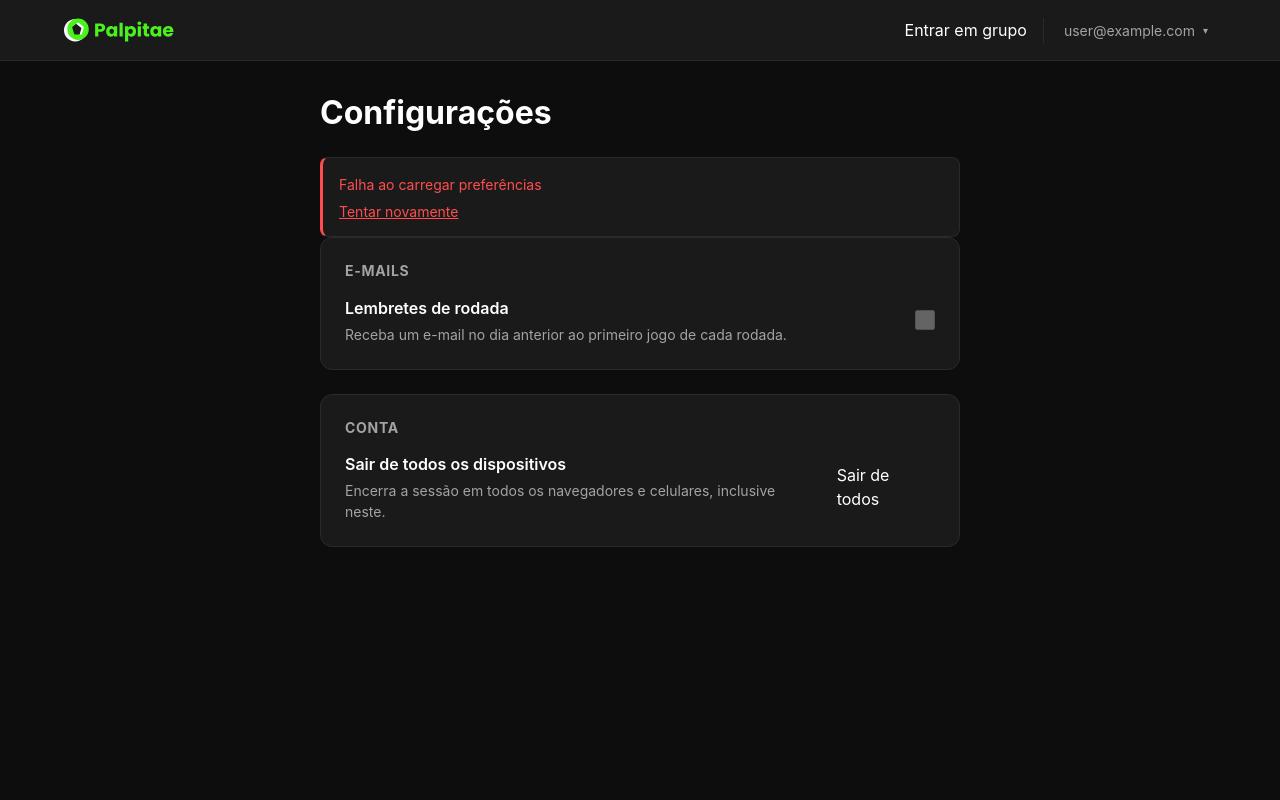
Test: SettingsPage › shows a retry button after initial load failure and recovers on retry
Expected: the checkbox is disabled, [915, 310, 935, 330]
Click the button "Tentar novamente": coordinates (399, 212) [339, 203, 458, 220]
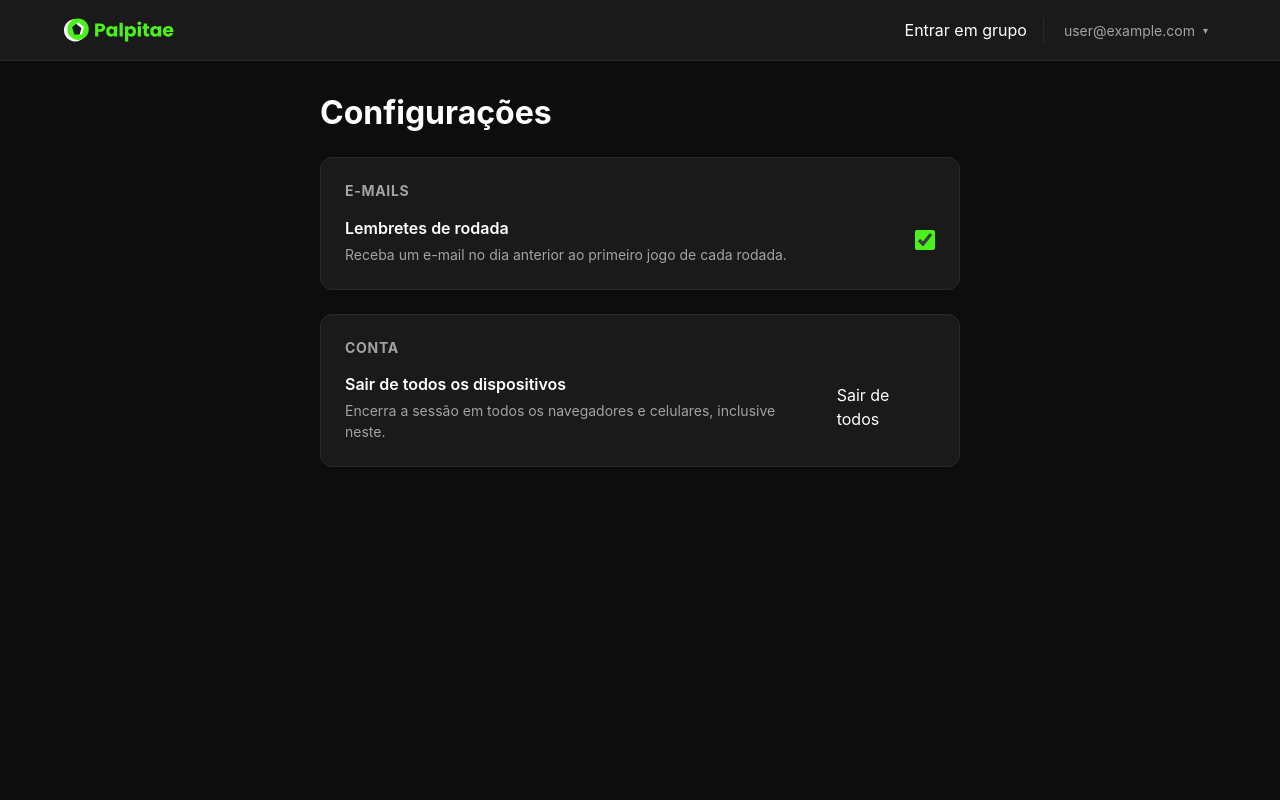
Expected: the button "Tentar novamente" is gone
Expected: the checkbox is enabled, [915, 230, 935, 250]
